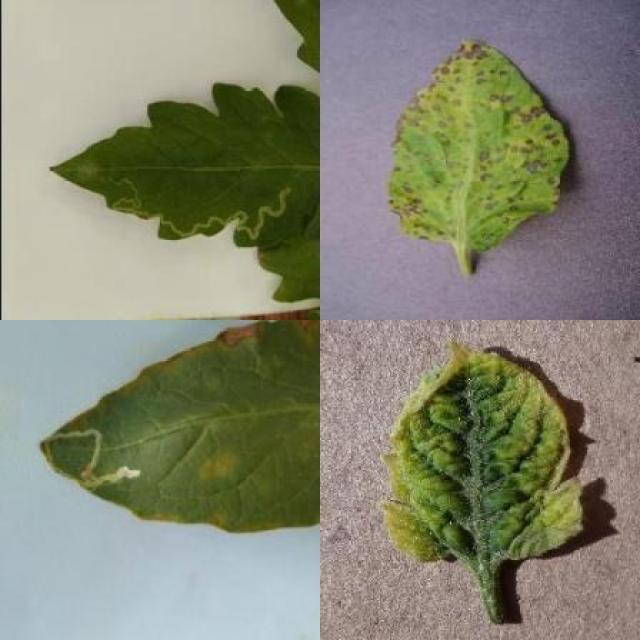Leaf Miner: (34, 320, 320, 534), (46, 81, 320, 246)
Septoria: (390, 39, 573, 254)
Yellow Leaf Curl Virus: (380, 340, 583, 560)
